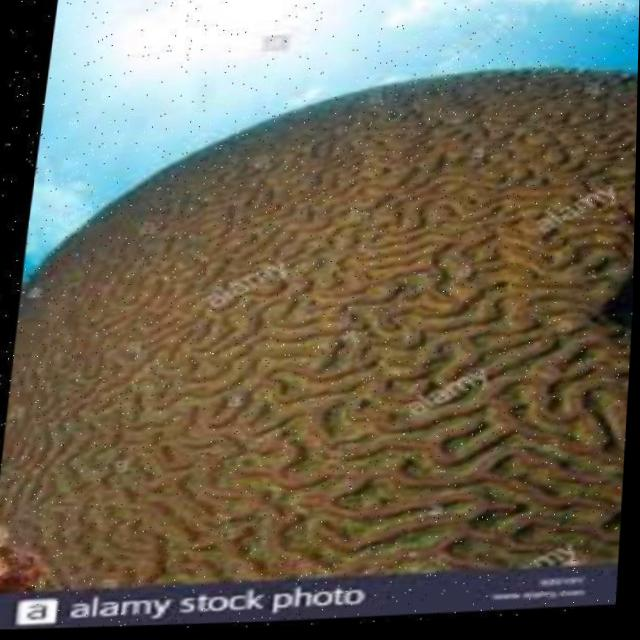Healthy Coral: (0, 53, 639, 604)
